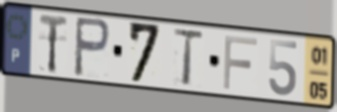5: (266, 38, 299, 98)
7: (126, 19, 162, 85)
F: (221, 33, 260, 92)
P: (72, 14, 112, 80)
T: (170, 28, 206, 89), (37, 12, 70, 75)
